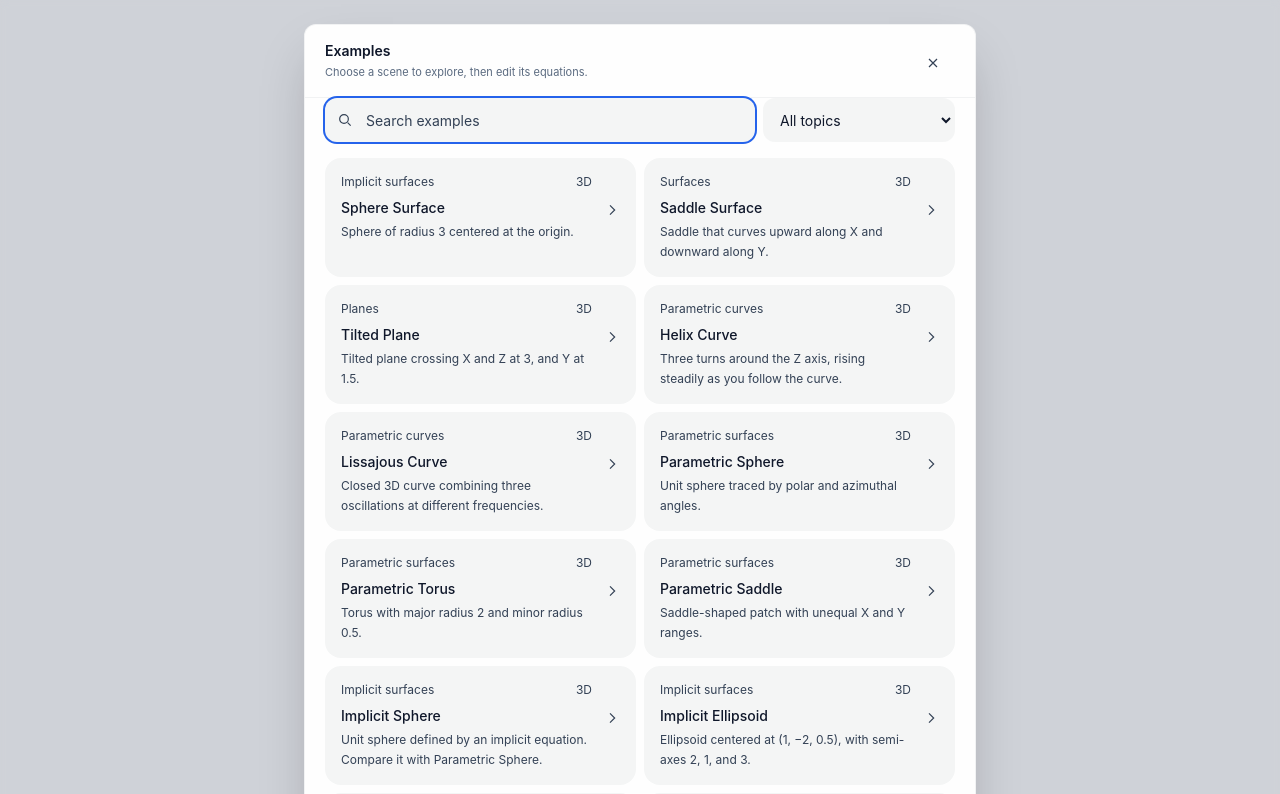
combines topic and search filters and recovers from no matches
The image size is (1280, 794).
Select "Planes" in the dropdown named "Example topic" at [859, 120], box [763, 98, 955, 142]
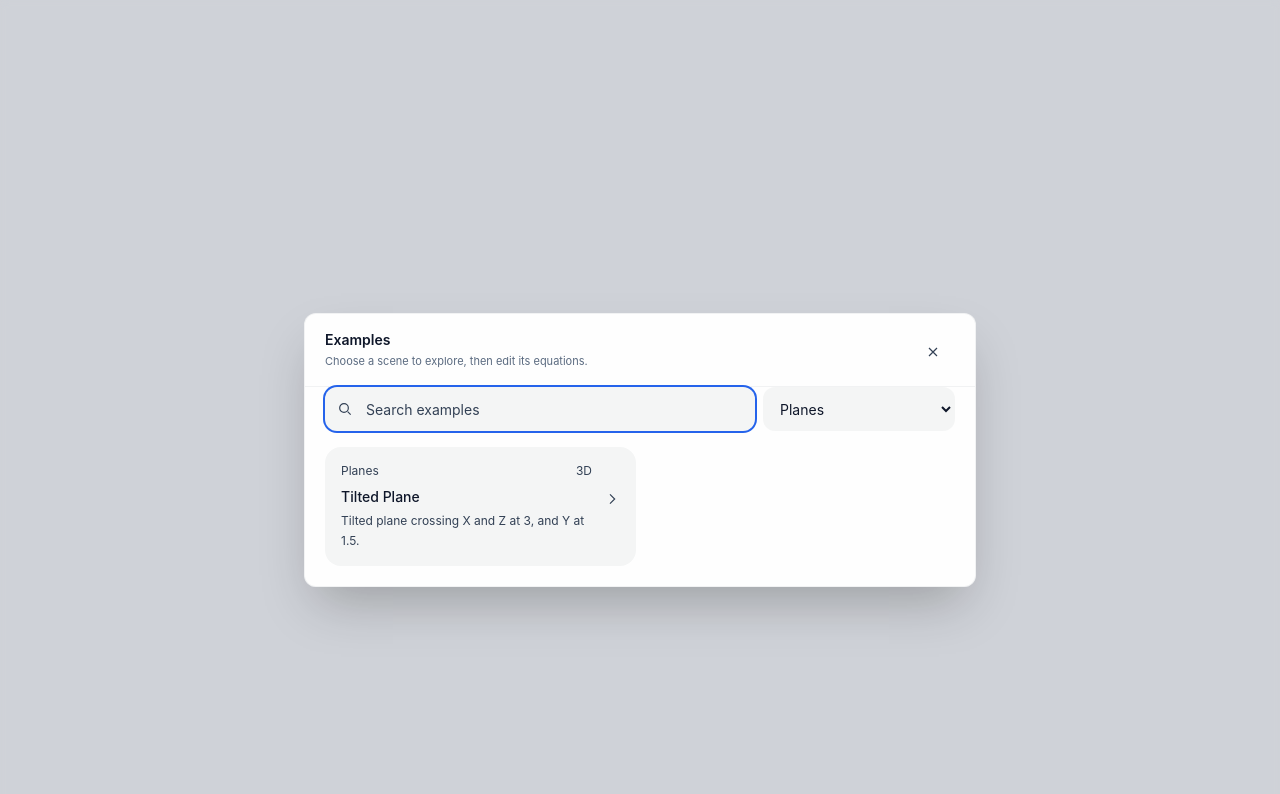
Check: the number of buttons named "Open example:" is 1, box [325, 447, 636, 566]
Type "helix" into the search field at [540, 409], box [325, 387, 755, 431]
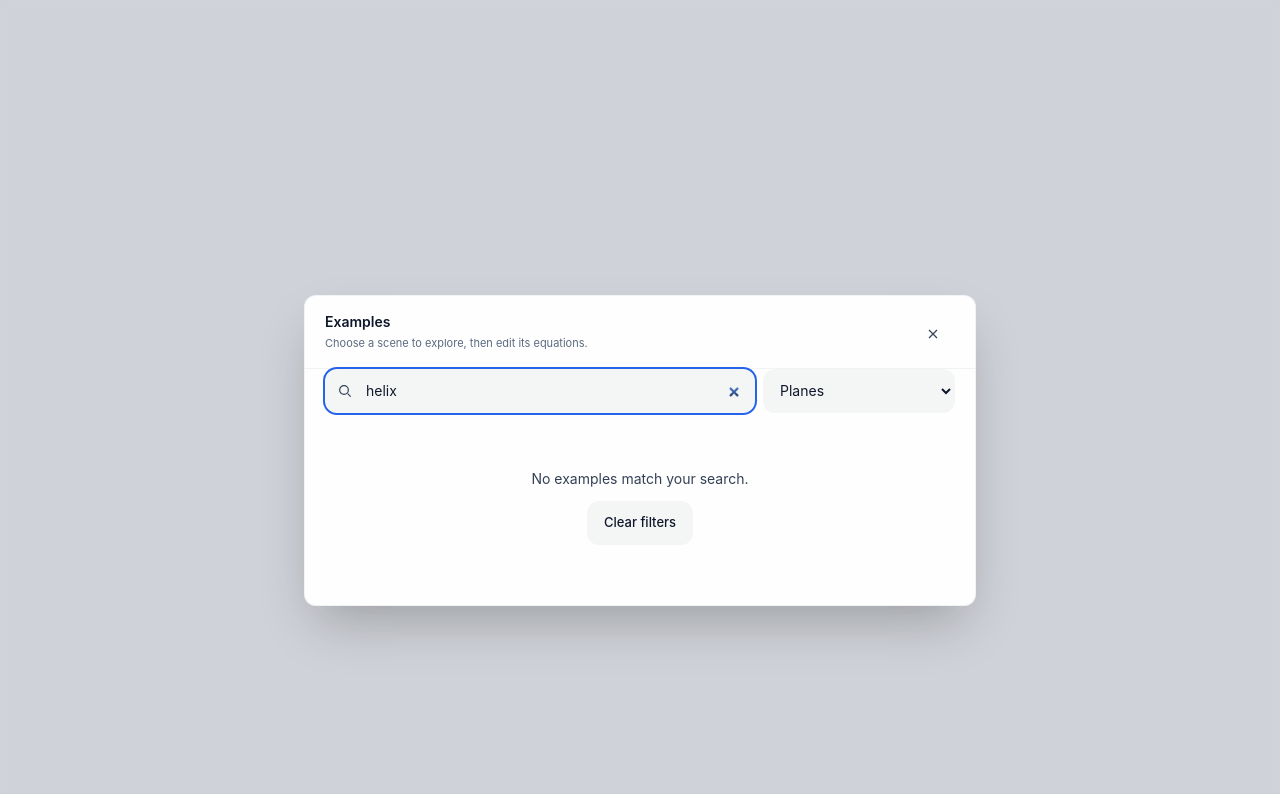
Check: the message reads "No examples match your search.", box [531, 470, 748, 486]
Click the button "Clear filters" at [640, 522], box [587, 500, 693, 544]
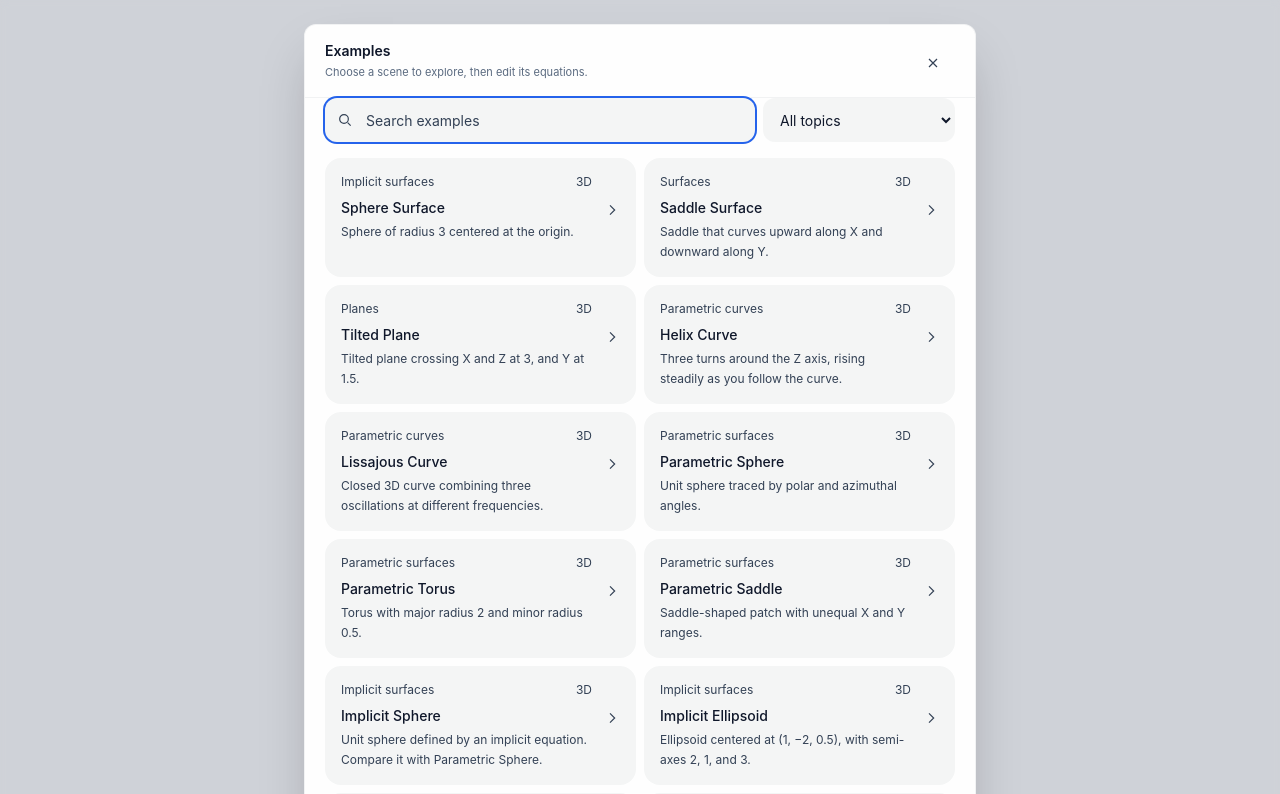
Check: the number of buttons named "Open example:" is 19
